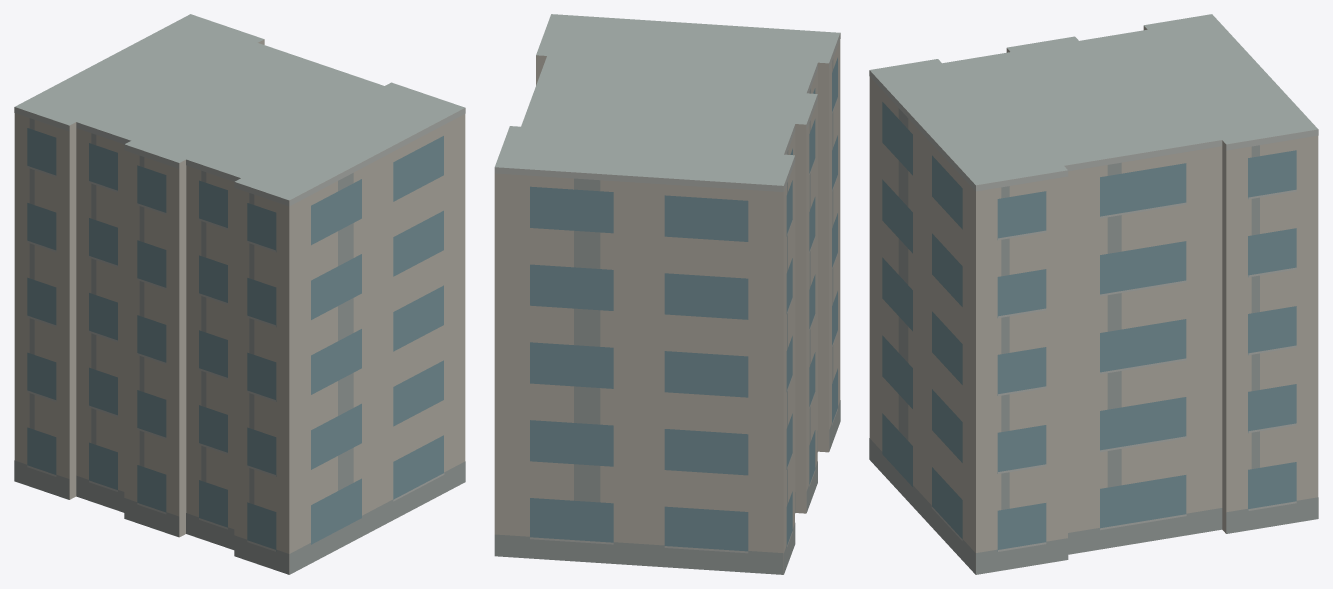
File: survey-upis-32614112.glb
3 views of the same model, side by side, from view 1: azimuth 30°, elevation 25°; view 2: azimuth 150°, elevation 25°; view 3: azimuth 270°, elevation 25° (orthographic). The views are drawn at different scales.
Visible parts, largest first — view 1: survey-upis-32614112.tmp; view 2: survey-upis-32614112.tmp; view 3: survey-upis-32614112.tmp.
Boxes of the visible parts, x1,y1,x2,y2 form: survey-upis-32614112.tmp: (14, 14, 465, 574); survey-upis-32614112.tmp: (494, 14, 840, 574); survey-upis-32614112.tmp: (869, 14, 1318, 574).
Bounding box in the file's own units: 14.39 × 15.25 × 15.94.
